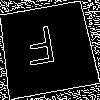F: (22, 24, 59, 76)
